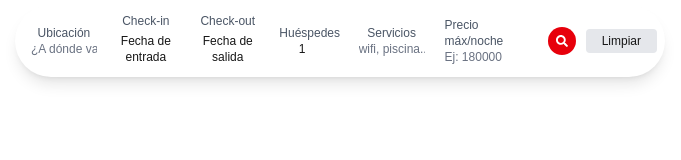
Test: SearchBar Component › Funcionalidad de limpiar › debe limpiar todos los campos al hacer clic en "Limpiar"
This screenshot has width=681, height=160.
// Llenar campos
Step 1. Type "Cali" into the field with placeholder "¿A dónde vas?" → (64, 49), box x1=31 y1=41 x2=97 y2=57
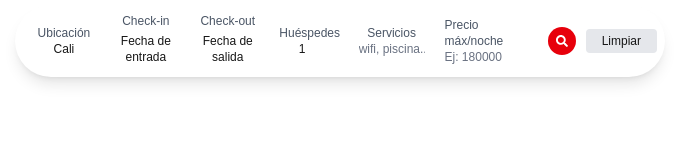
Step 2. Type "wifi" into the field with placeholder "wifi, piscina..." → (392, 49), box x1=359 y1=41 x2=424 y2=57
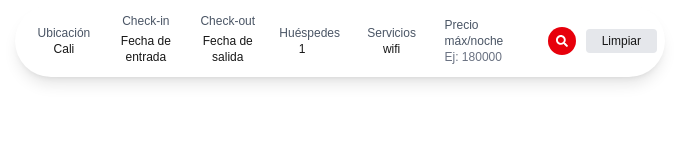
Step 3. Type "100000" into the field with placeholder "Ej: 180000" → (489, 57), box x1=444 y1=49 x2=534 y2=65
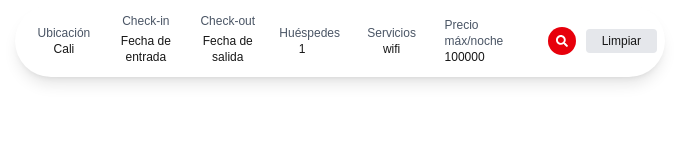
Step 4. Click the button "Limpiar" → (621, 41), box x1=586 y1=29 x2=657 y2=53
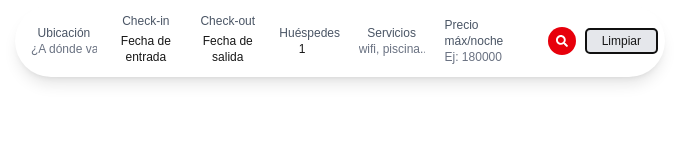
Now the field with placeholder "¿A dónde vas?" is empty, box x1=31 y1=41 x2=97 y2=57
Now the field with placeholder "wifi, piscina..." is empty, box x1=359 y1=41 x2=424 y2=57
Now the field with placeholder "Ej: 180000" is empty, box x1=444 y1=49 x2=534 y2=65
